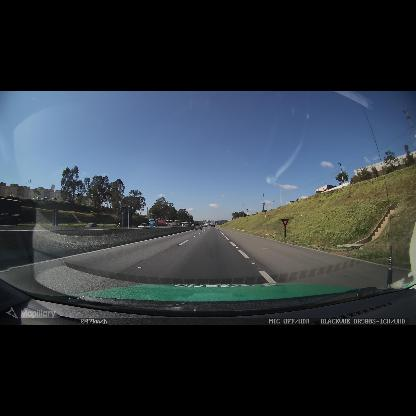R-2: (281, 219, 289, 228)
